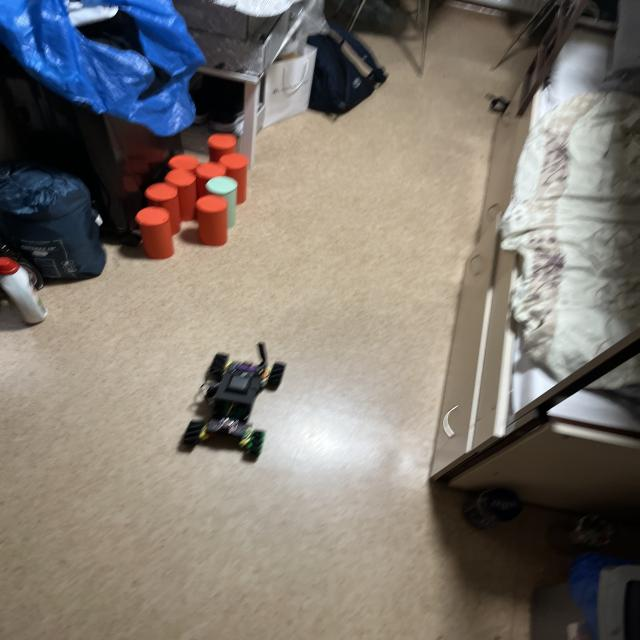robot: (182, 343, 285, 457)
